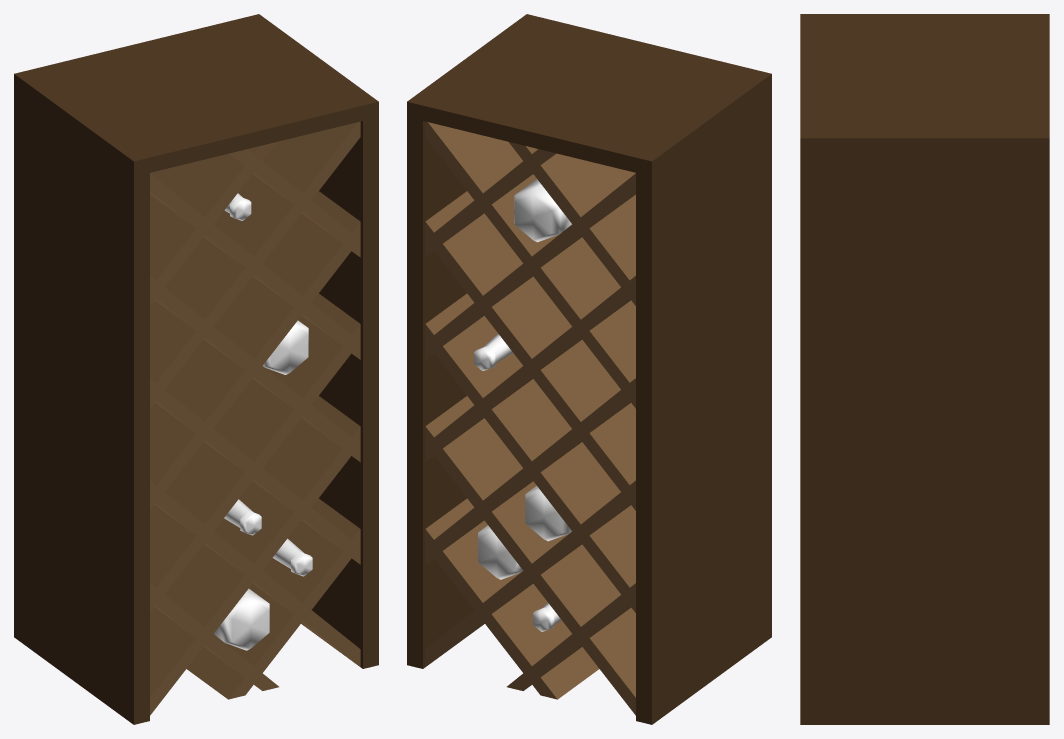
The model's file is SM_Prop_WineRack_01.obj.
The picture shows the model from 3 angles, left to right: view 1: azimuth 30°, elevation 25°; view 2: azimuth 150°, elevation 25°; view 3: azimuth 270°, elevation 25°; orthographic projection. The views are drawn at different scales.
Parts seen in each view (by area): view 1: SM_Prop_WineRack_01_Mat_SwatchOverlay_Farm_01_Wood_Inst, SM_Prop_WineRack_01_Mat_SwatchOverlay_Farm_01_Inst, SM_Prop_WineRack_01_Mat_SwatchOverlay_Farm_01_WoodB_Inst, SM_Prop_WineRack_01_Mat_PolygonTown_01_A_Inst; view 2: SM_Prop_WineRack_01_Mat_SwatchOverlay_Farm_01_Wood_Inst, SM_Prop_WineRack_01_Mat_SwatchOverlay_Farm_01_Inst, SM_Prop_WineRack_01_Mat_SwatchOverlay_Farm_01_WoodB_Inst, SM_Prop_WineRack_01_Mat_PolygonTown_01_A_Inst; view 3: SM_Prop_WineRack_01_Mat_SwatchOverlay_Farm_01_Wood_Inst, SM_Prop_WineRack_01_Mat_SwatchOverlay_Farm_01_WoodB_Inst.
Boxes of the visible parts, x1=… form: SM_Prop_WineRack_01_Mat_SwatchOverlay_Farm_01_Wood_Inst: x1=14, y1=89, x2=362, y2=724; SM_Prop_WineRack_01_Mat_SwatchOverlay_Farm_01_Inst: x1=134, y1=102, x2=378, y2=724; SM_Prop_WineRack_01_Mat_SwatchOverlay_Farm_01_WoodB_Inst: x1=14, y1=14, x2=378, y2=176; SM_Prop_WineRack_01_Mat_PolygonTown_01_A_Inst: x1=214, y1=193, x2=312, y2=650; SM_Prop_WineRack_01_Mat_SwatchOverlay_Farm_01_Wood_Inst: x1=423, y1=89, x2=771, y2=724; SM_Prop_WineRack_01_Mat_SwatchOverlay_Farm_01_Inst: x1=407, y1=102, x2=651, y2=724; SM_Prop_WineRack_01_Mat_SwatchOverlay_Farm_01_WoodB_Inst: x1=407, y1=14, x2=771, y2=176; SM_Prop_WineRack_01_Mat_PolygonTown_01_A_Inst: x1=474, y1=179, x2=571, y2=631; SM_Prop_WineRack_01_Mat_SwatchOverlay_Farm_01_Wood_Inst: x1=800, y1=154, x2=1049, y2=724; SM_Prop_WineRack_01_Mat_SwatchOverlay_Farm_01_WoodB_Inst: x1=800, y1=14, x2=1049, y2=154.
Size of the model in its own units: 0.9825 by 2.16 by 0.8321.
Materials: 4 (3 with a texture image).
